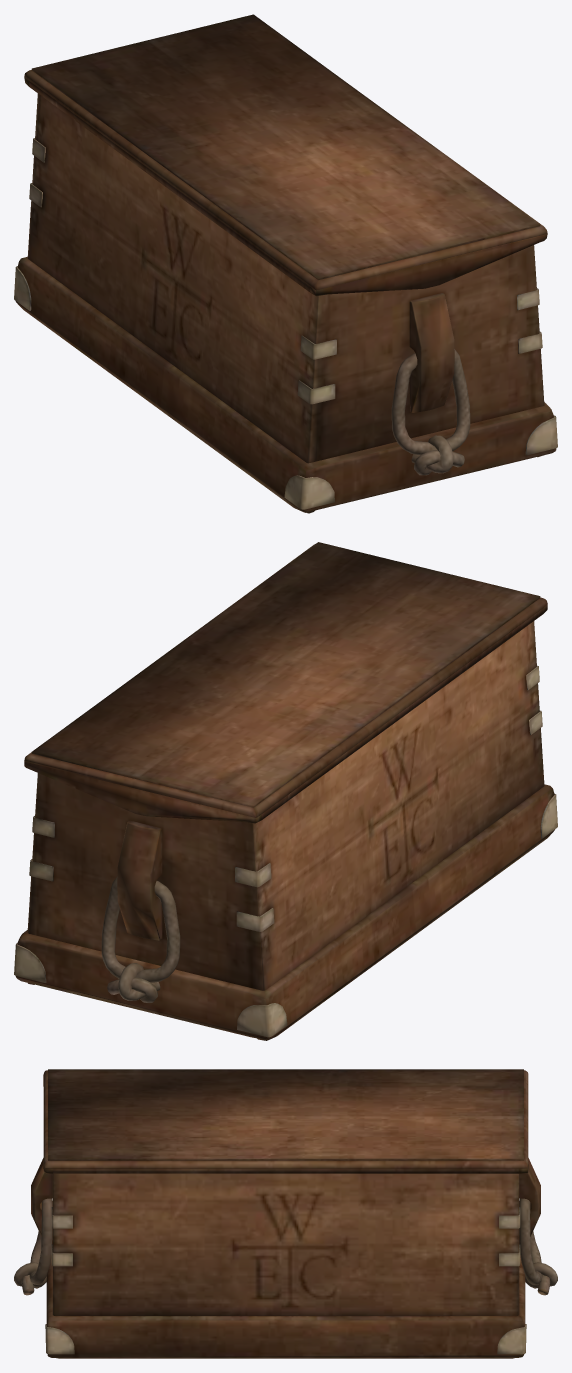
The model's file is wooden_crate_02.glb.
3 views of the same model, one above another, from view 1: azimuth 30°, elevation 25°; view 2: azimuth 150°, elevation 25°; view 3: azimuth 270°, elevation 25° (orthographic). The views are drawn at different scales.
Visible parts, largest first — view 1: wooden_crate_02_crate; view 2: wooden_crate_02_crate; view 3: wooden_crate_02_crate.
Boxes of the visible parts, x1,y1,x2,y2 form: wooden_crate_02_crate: [14, 14, 557, 513]; wooden_crate_02_crate: [14, 542, 557, 1040]; wooden_crate_02_crate: [14, 1069, 557, 1358].
Bounding box in the file's own units: 0.5291 × 0.4639 × 1.17.
1 material, 1 textured.
